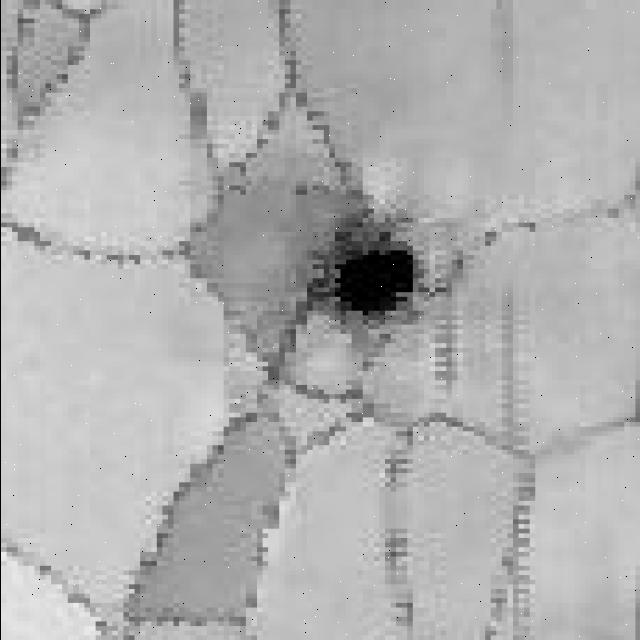good_void: (302, 205, 436, 342)
